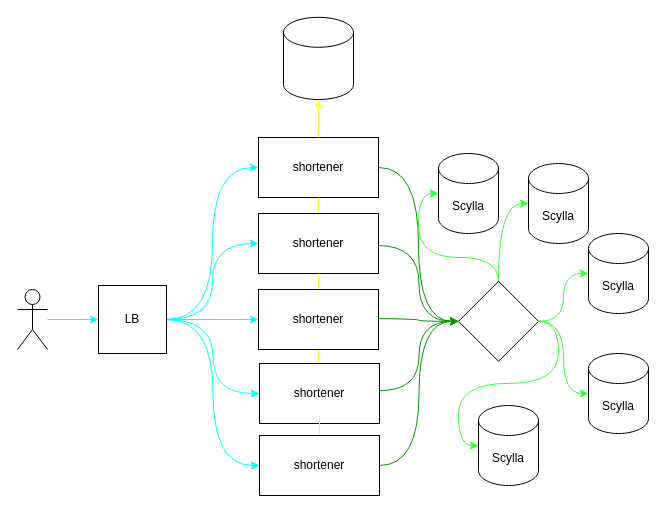
Some shapes in this 666 by 514 pixel diagram are drawn without their labels. Here are the shapes that lost their labels. From the top down, the centre of each, then its label:
At (x=318, y=58): "Memcached".
At (x=32, y=319): "Actor".
At (x=498, y=320): "quorum".
